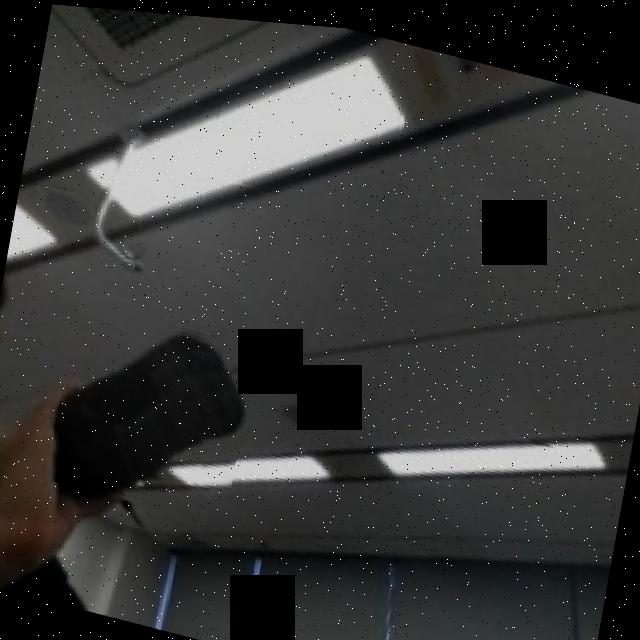shoe: (45, 295, 259, 524)
